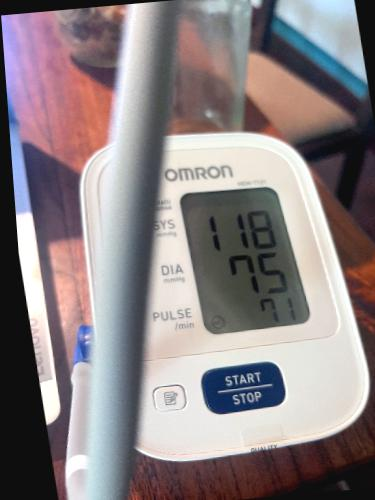bpm: (176, 172, 316, 347)
